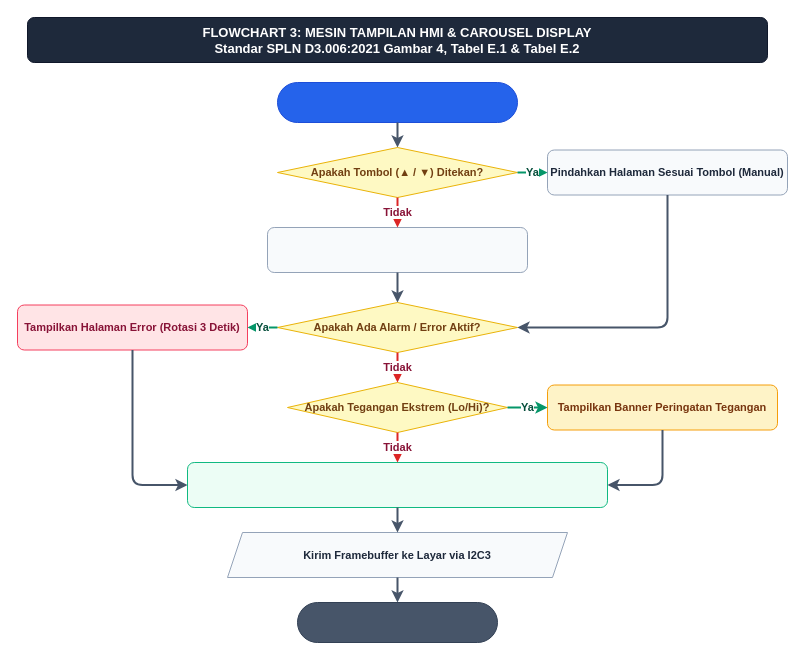
Some shapes in this 805 by 660 pixel diagram are drawn without their labels. Each missing label, with the box of its shape:
Jalankan Auto-Scroll Layar (5 Detik): (266, 226, 528, 272)
Kompilasi Layout Framebuffer Layar SPLN: (186, 462, 608, 508)
Mulai Siklus Render Layar (1 Detik): (276, 82, 518, 122)
Selesai Siklus Layar: (296, 602, 498, 642)
